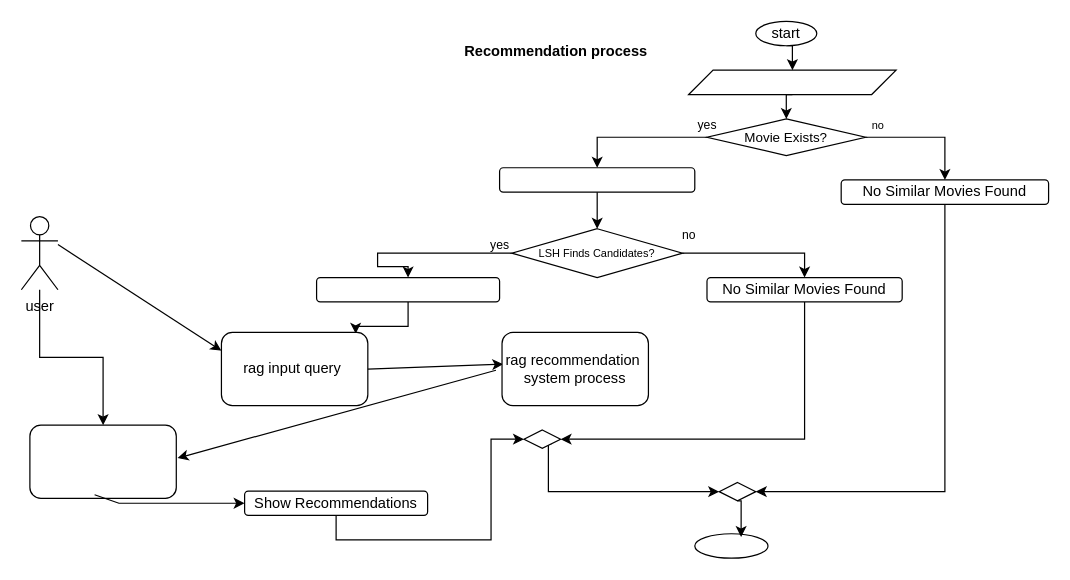
Some shapes in this 1070 by 580 pixel diagram are drawn without their labels. The shapes that lost their labels are listed below. From the top down, each one's centre as x and y in pixels, then its label:
At point (791, 82): "Input Movie Title".
At point (596, 179): "Find Similar Movies (LSH)".
At point (407, 289): "Refine with FAISS".
At point (102, 461): "response".
At point (731, 545): "end".
